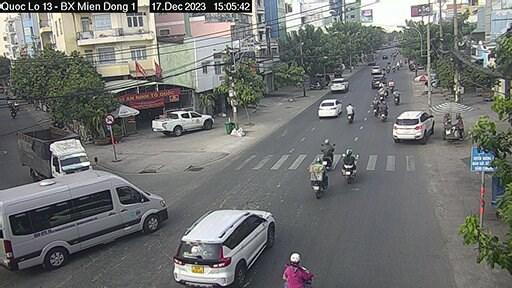car: (9, 175, 172, 263), (158, 193, 272, 286), (154, 106, 229, 136), (394, 106, 429, 145), (319, 92, 340, 109), (334, 75, 346, 97)
motorbike: (306, 157, 325, 192), (319, 130, 336, 160), (337, 141, 355, 167)
truck: (14, 117, 91, 186)
